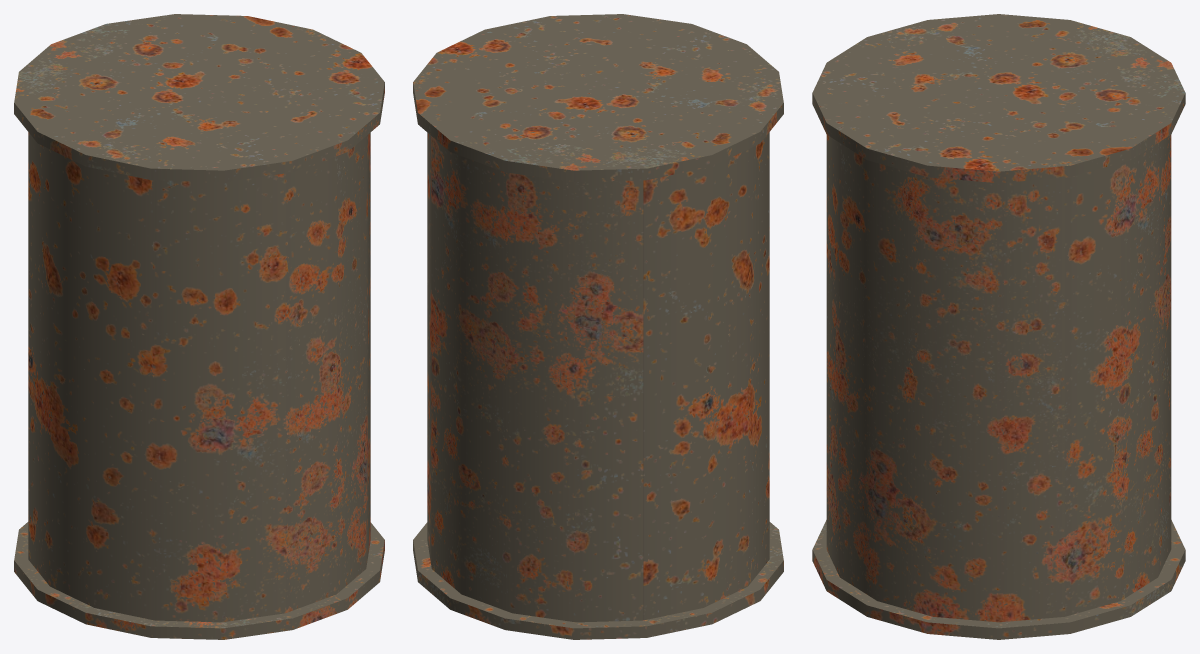
File: oil_drum_2 .fbx
3 views of the same model, side by side, from view 1: azimuth 30°, elevation 25°; view 2: azimuth 150°, elevation 25°; view 3: azimuth 270°, elevation 25° (orthographic).
Visible parts, largest first — view 1: low_xin.001; view 2: low_xin.001; view 3: low_xin.001.
Part boxes in pixels (bbox=[...]): low_xin.001: bbox=[14, 14, 384, 639]; low_xin.001: bbox=[413, 14, 783, 639]; low_xin.001: bbox=[812, 14, 1185, 639].
Bounding box in the file's own units: 63.25 × 87.6 × 63.25.
Materials: 1 (1 with a texture image).
